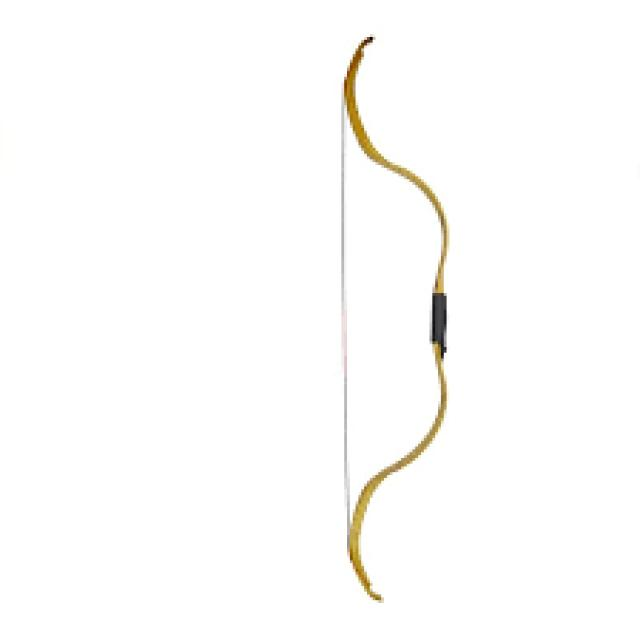X-Bow: (334, 33, 457, 604)
